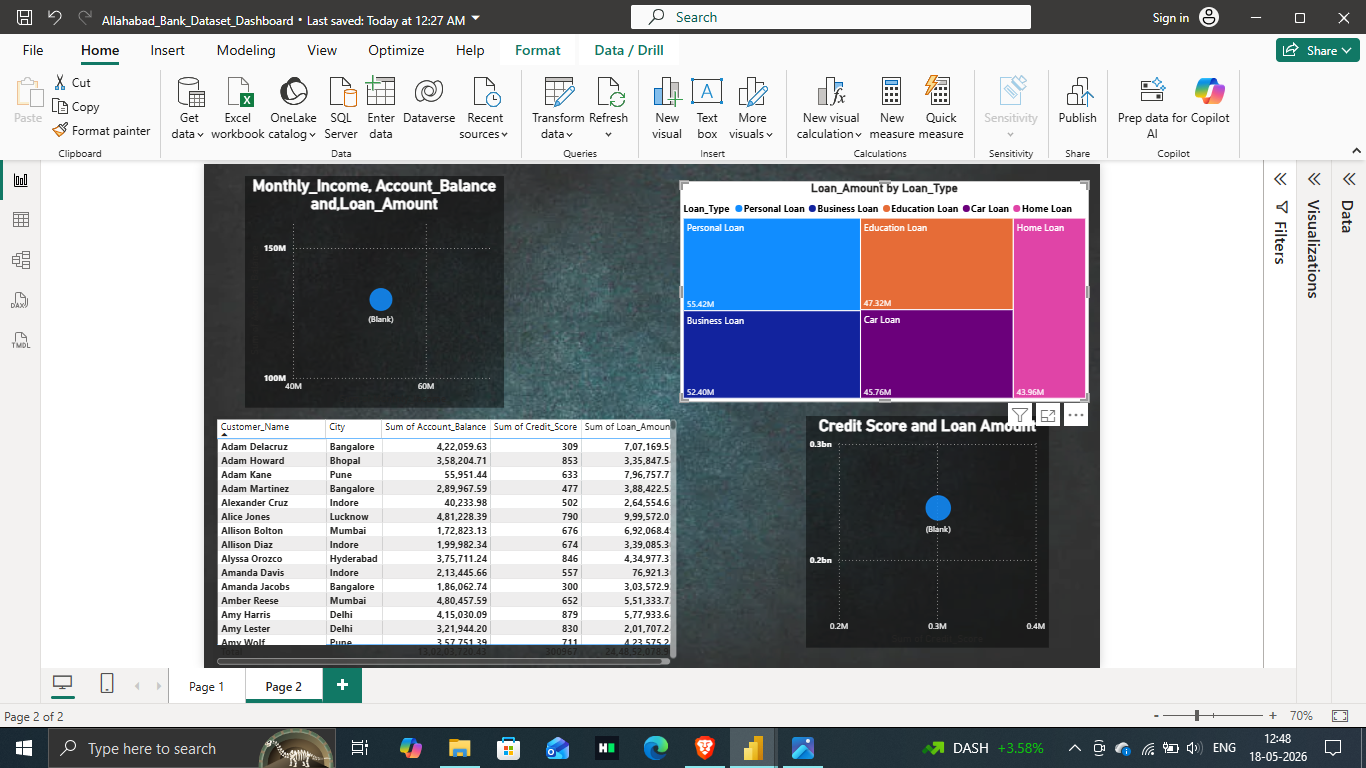

The page's visual inventory and layout, read from the dashboard file:
{"tool":"powerbi","page":{"name":"Page 2","canvas":[1280,720],"ordinal":1},"visuals":[{"type":"scatterChart","title":"Monthly_Income, Account_Balance and,Loan_Amount","fields":{"X":["Sum(BankData.Monthly_Income)"],"Y":["Sum(BankData.Account_Balance)"],"Size":["Sum(BankData.Loan_Amount)"]},"box":[13.3,0,370,331.7],"z":0},{"type":"scatterChart","title":"Credit Score and Loan Amount","fields":{"Size":["Sum(BankData.Loan_Amount)"],"X":["Sum(BankData.Credit_Score)"],"Y":["Sum(BankData.Loan_Amount)"]},"box":[870,388.3,346.7,331.7],"z":1},{"type":"treemap","title":"Loan_Amount by Loan_Type","fields":{"Values":["Sum(BankData.Loan_Amount)"],"Group":["BankData.Loan_Type"]},"box":[670,16.7,560,300],"z":2},{"type":"tableEx","fields":{"Values":["BankData.Customer_Name","BankData.City","Sum(BankData.Account_Balance)","Sum(BankData.Credit_Score)","Sum(BankData.Loan_Amount)"]},"box":[13.3,420,656.7,300],"z":3}]}

Visuals, with their boxes on the page's 1280x720 design canvas (x1, y1, x2, y2). These are canvas units, not pixel positions in the 1366x768 screenshot, which may show the page scaled, cropped or inside an application window:
"Monthly_Income, Account_Balance and,Loan_Amount" scatterChart: (left=13, top=0, right=383, bottom=332)
"Credit Score and Loan Amount" scatterChart: (left=870, top=388, right=1217, bottom=720)
"Loan_Amount by Loan_Type" treemap: (left=670, top=17, right=1230, bottom=317)
tableEx - BankData.Customer_Name x BankData.City: (left=13, top=420, right=670, bottom=720)
